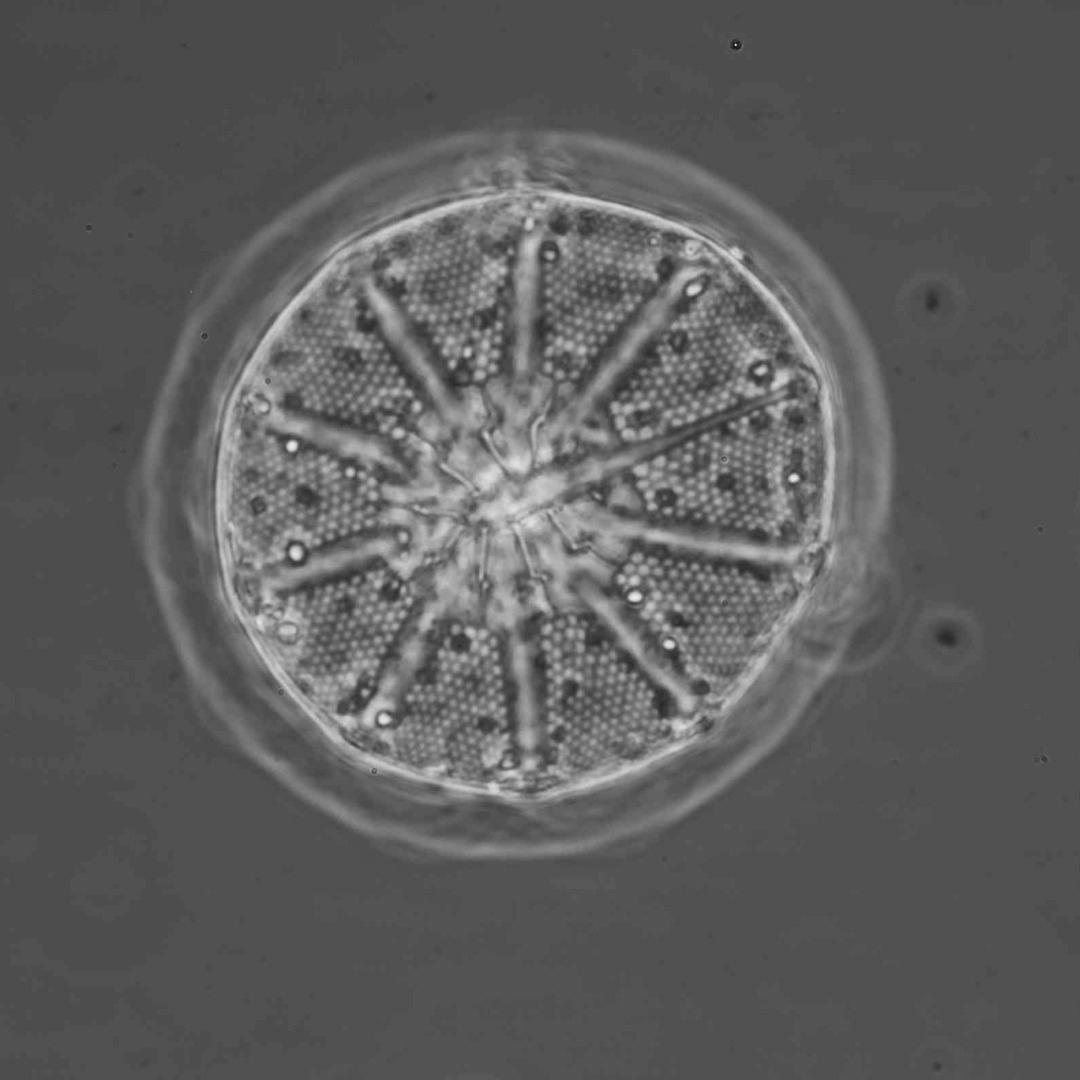asteromphalus_hyalinus: (210, 185, 829, 804)
